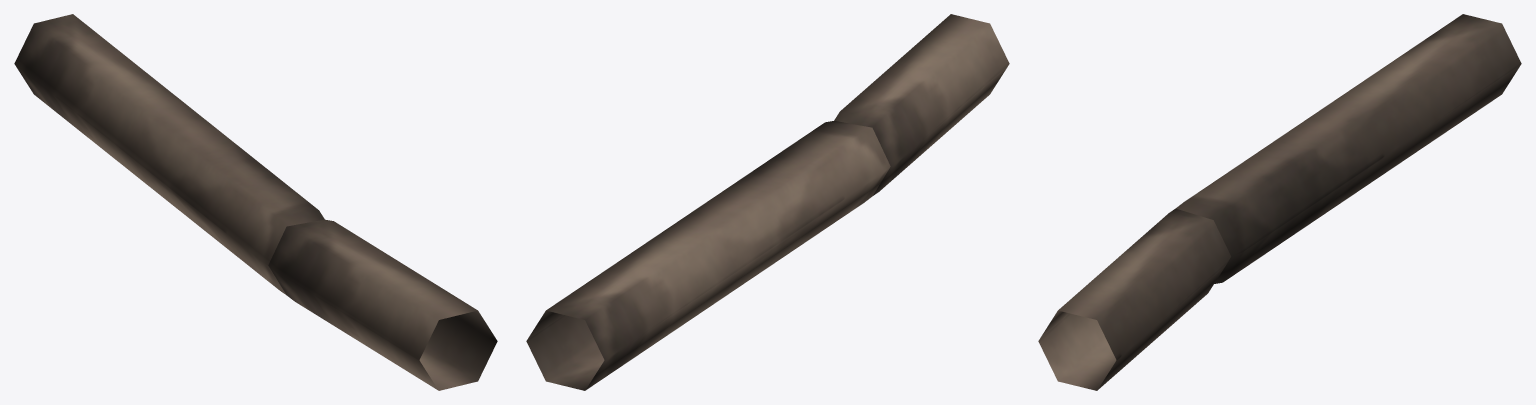
Rendered from PIPE_LINE_L.fbx.
The picture shows the model from 3 angles, left to right: view 1: azimuth 30°, elevation 25°; view 2: azimuth 150°, elevation 25°; view 3: azimuth 330°, elevation 25°; orthographic projection.
Parts seen in each view (by area): view 1: polySurface19; view 2: polySurface19; view 3: polySurface19.
Boxes of the visible parts, x1,y1,x2,y2 form: polySurface19: [14, 14, 497, 390]; polySurface19: [526, 14, 1009, 390]; polySurface19: [1038, 14, 1521, 390].
Bounding box in the file's own units: 1.91 × 1.37 × 14.16.
